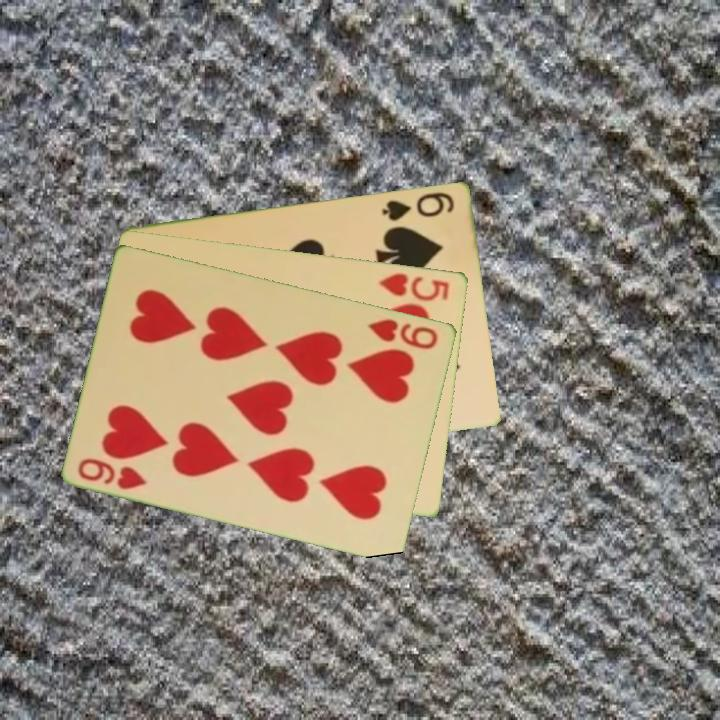5h: (375, 269, 453, 304)
6s: (379, 188, 458, 224)
9h: (74, 454, 150, 493), (365, 314, 441, 352)
